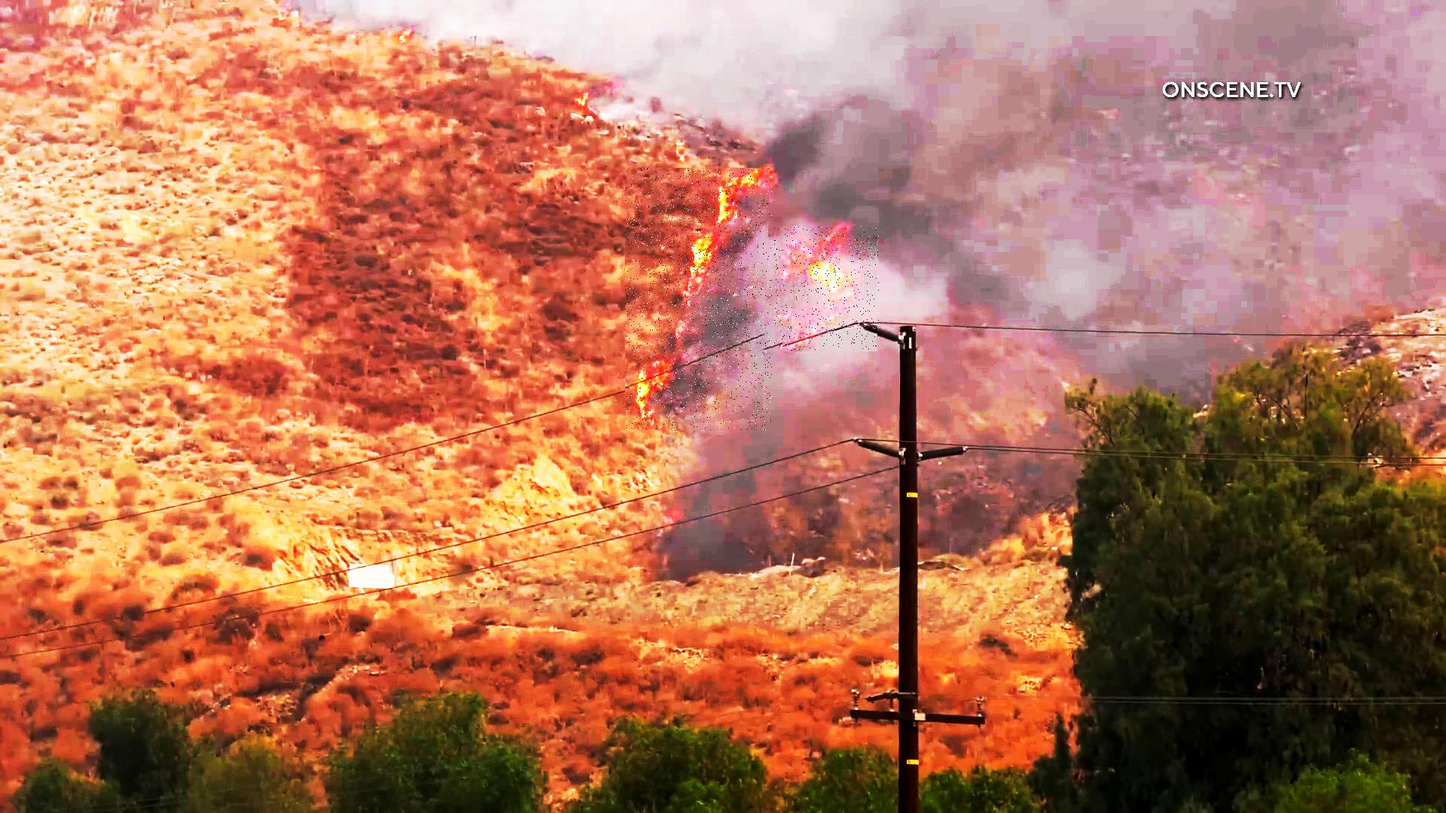fire: (880, 57, 1096, 297), (626, 168, 773, 431), (775, 226, 880, 352)
